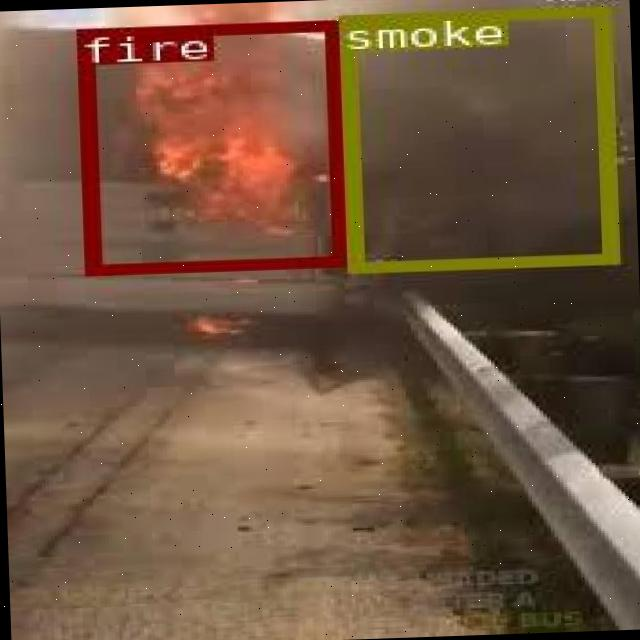fire: (74, 18, 345, 274)
smoke: (336, 6, 614, 271)
